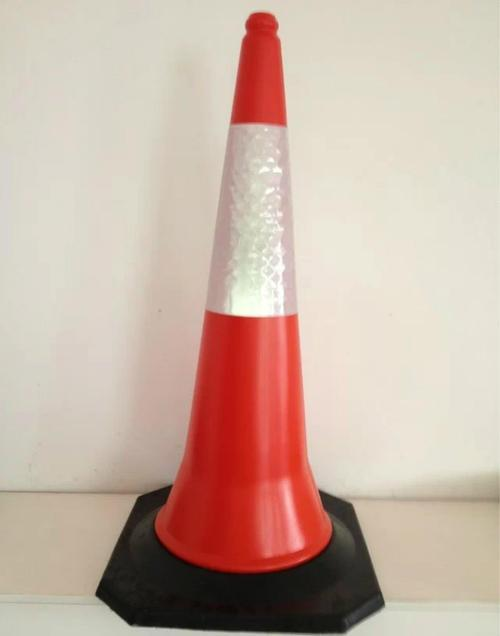cone_barrel: (151, 11, 342, 586)
